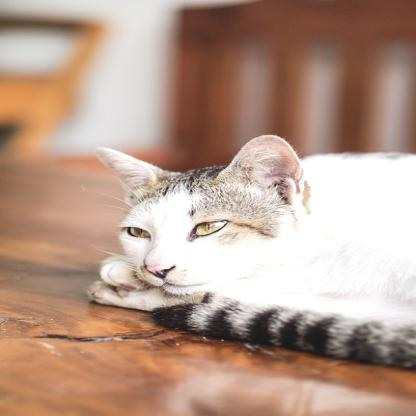cat: (80, 133, 415, 368)
